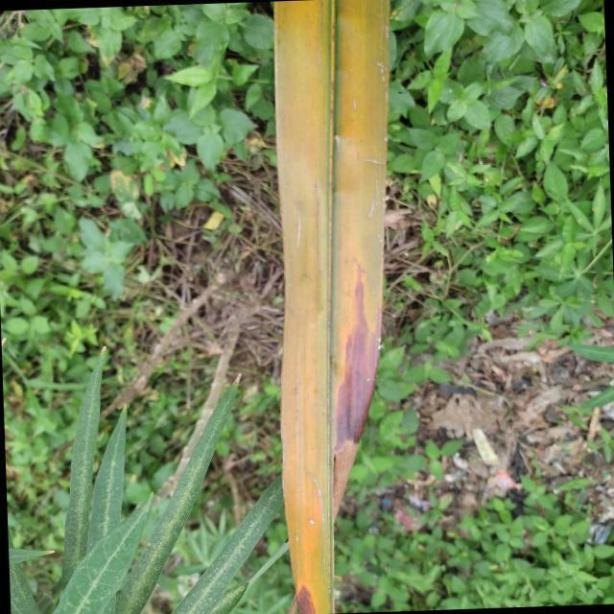Megnesium: (275, 0, 392, 614)
